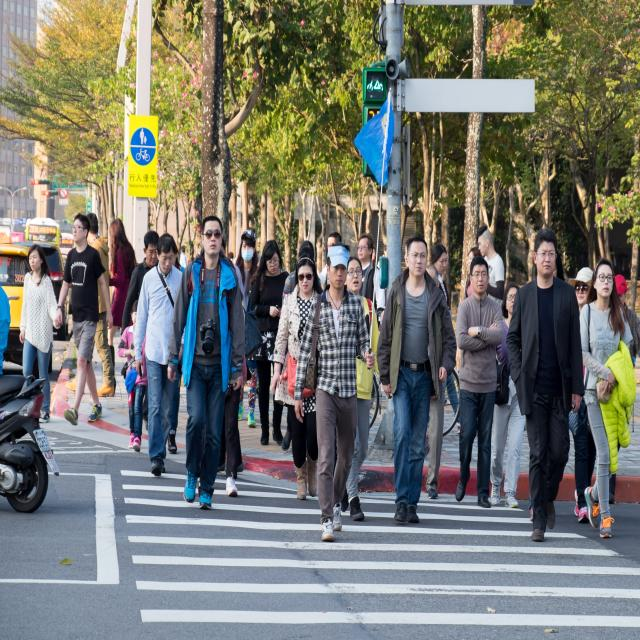body: (504, 225, 588, 544), (292, 241, 378, 544), (165, 214, 247, 513), (375, 235, 458, 527), (451, 253, 511, 513), (578, 259, 632, 540), (584, 269, 640, 509), (54, 211, 115, 428), (270, 256, 324, 500), (133, 232, 186, 478), (340, 255, 380, 522), (64, 212, 117, 399), (566, 266, 602, 526), (281, 240, 324, 451), (249, 239, 291, 445), (224, 227, 265, 430), (120, 230, 161, 432), (490, 282, 526, 508), (18, 243, 61, 426), (429, 243, 462, 435), (105, 217, 140, 381), (462, 245, 498, 402), (357, 231, 388, 409), (116, 300, 148, 452), (426, 263, 446, 499), (218, 387, 245, 496), (475, 224, 506, 308), (318, 232, 342, 286), (0, 283, 10, 380), (221, 237, 241, 283), (553, 249, 566, 281), (400, 236, 411, 266), (180, 244, 188, 268), (371, 250, 379, 262), (189, 249, 195, 264)
